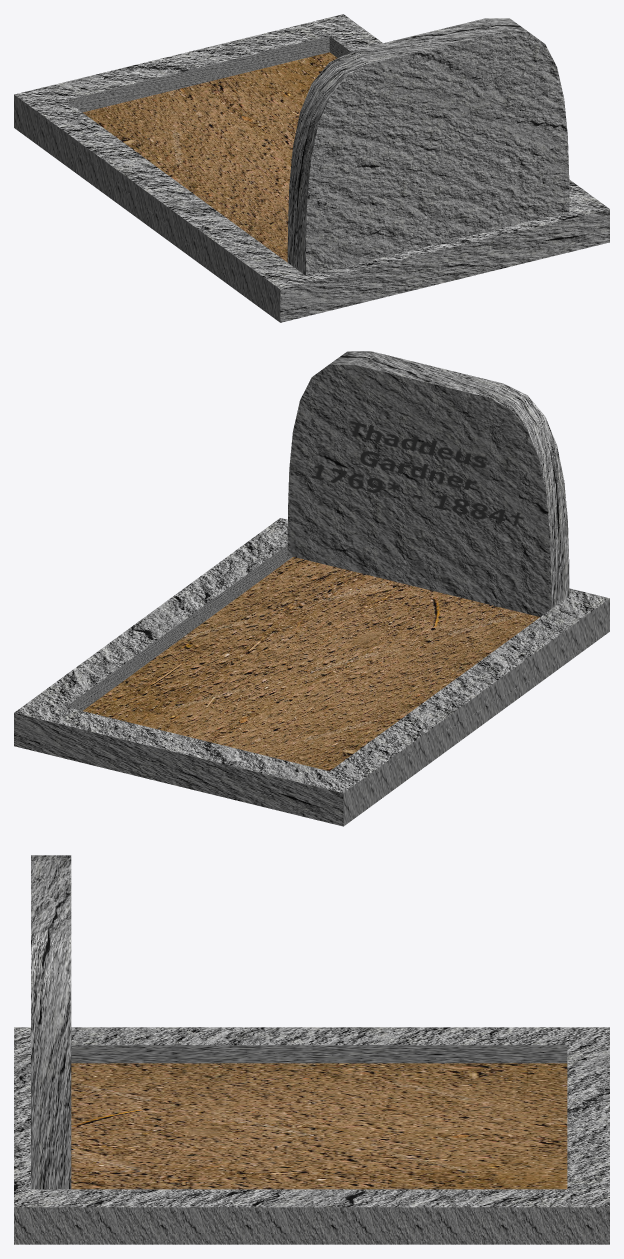
Rendered from Grave.FBX.
3 renders of one model, top to bottom at view 1: azimuth 30°, elevation 25°; view 2: azimuth 150°, elevation 25°; view 3: azimuth 270°, elevation 25°, orthographic. The views are drawn at different scales.
Visible parts, largest first — view 1: Box001, Line001; view 2: Box001, Line001; view 3: Box001, Line001.
Part boxes in pixels (box(x1,y1,x2,y2)): Box001: box(14, 14, 609, 322); Line001: box(287, 18, 569, 275); Box001: box(14, 518, 609, 826); Line001: box(287, 351, 569, 616); Box001: box(14, 1027, 609, 1244); Line001: box(31, 855, 71, 1189).
Bounding box in the file's own units: 100 × 66.54 × 140.
4 materials, 3 textured.
